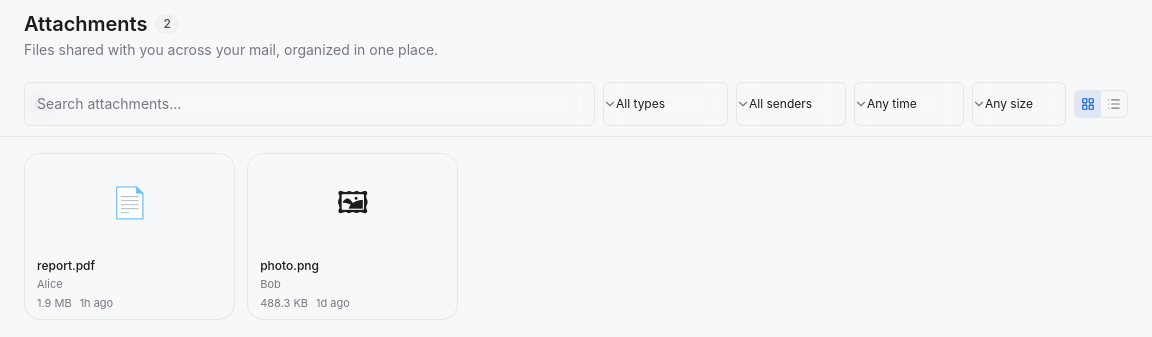
AttachmentLibrary › filters by search query
Expected: the text "report.pdf" is shown, [37,258,95,273]
Type "report" into the field with placeholder "Search attachments...". click: (310, 104)
box: [24,82,595,126]
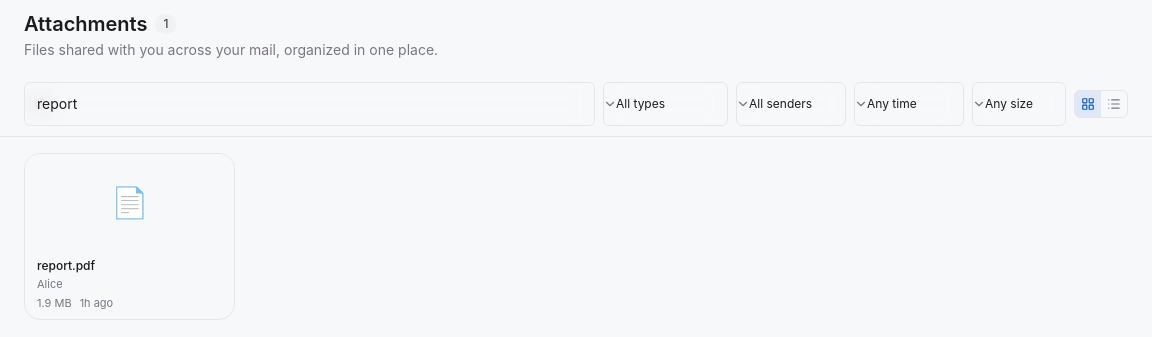
Expected: the text "report.pdf" is shown, [37,258,95,273]
Expected: the text "photo.png" is gone
